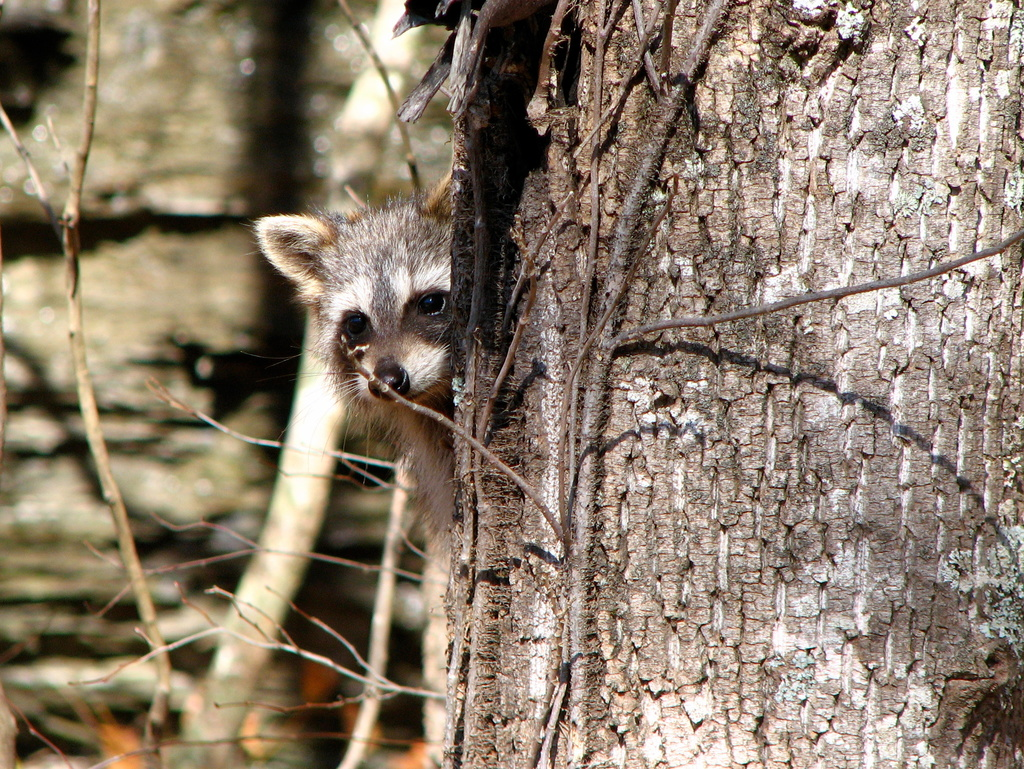raccoon: (258, 167, 461, 413)
